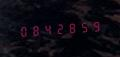eight: (29, 22, 40, 38), (65, 19, 76, 35)
five: (77, 18, 88, 34)
four: (41, 21, 52, 37)
nine: (89, 17, 100, 34)
two: (53, 20, 64, 36)
zero: (17, 22, 28, 39)
